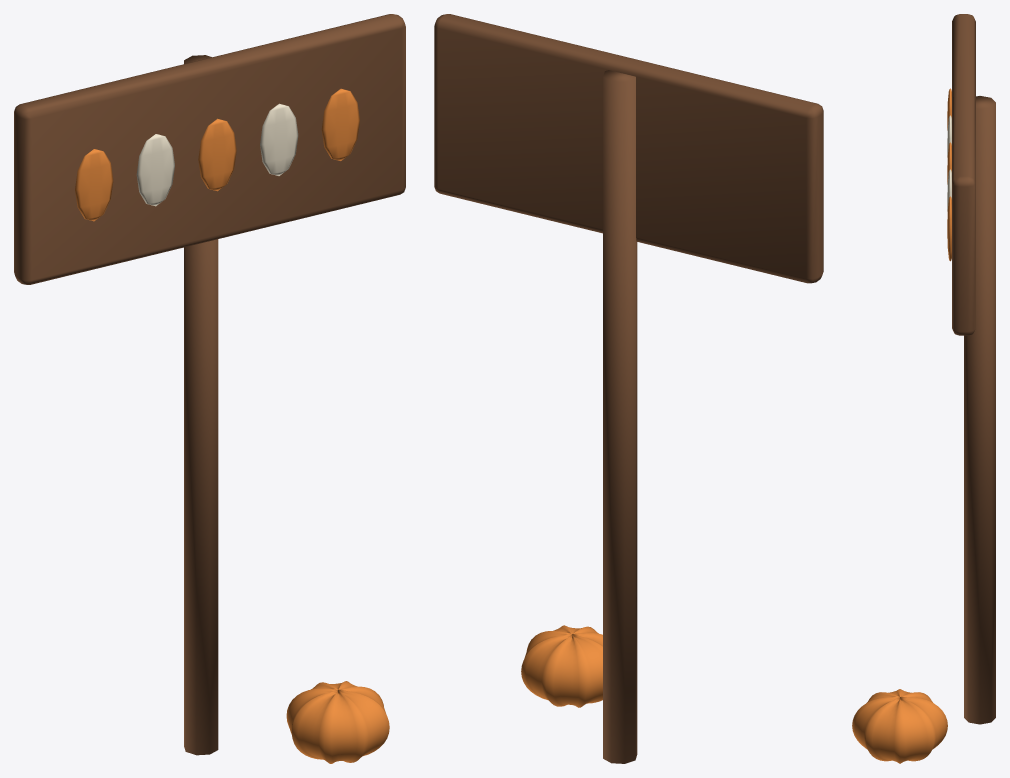
The model's file is welcome_sign.glb.
3 views of the same model, side by side, from view 1: azimuth 30°, elevation 25°; view 2: azimuth 150°, elevation 25°; view 3: azimuth 270°, elevation 25° (orthographic). The views are drawn at different scales.
Visible parts, largest first — view 1: LH_welcome_sign; view 2: LH_welcome_sign; view 3: LH_welcome_sign.
Boxes of the visible parts, x1,y1,x2,y2 form: LH_welcome_sign: (14, 14, 405, 763); LH_welcome_sign: (434, 14, 823, 763); LH_welcome_sign: (852, 14, 995, 763).
Size of the model in its own units: 0.5 by 0.86 by 0.18.
